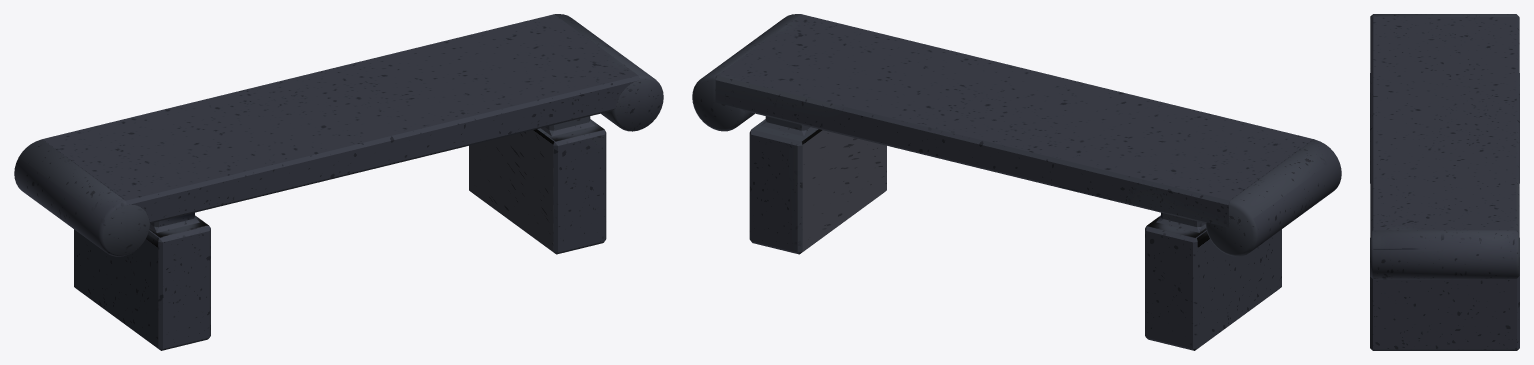
The model's file is Kursi Taman.fbx.
3 views of the same model, side by side, from view 1: azimuth 30°, elevation 25°; view 2: azimuth 150°, elevation 25°; view 3: azimuth 270°, elevation 25° (orthographic). The views are drawn at different scales.
Visible parts, largest first — view 1: Kursi; view 2: Kursi; view 3: Kursi.
Part boxes in pixels (<box>): Kursi: <box>14,14,663,350</box>; Kursi: <box>692,14,1341,350</box>; Kursi: <box>1370,14,1519,350</box>.
Bounding box in the file's own units: 573 × 154 × 154.
